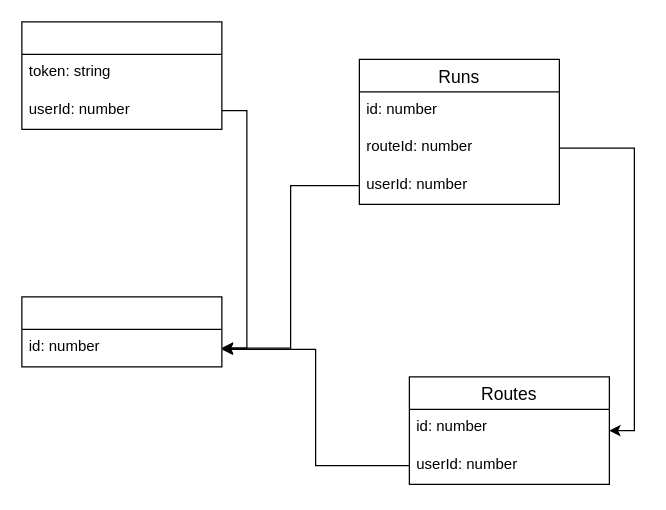
Image size: 666x510. Some labels were removed from this diagram. Each missing label, with the box of its shape:
Sessions: (21, 21, 222, 129)
Users: (21, 296, 222, 367)
